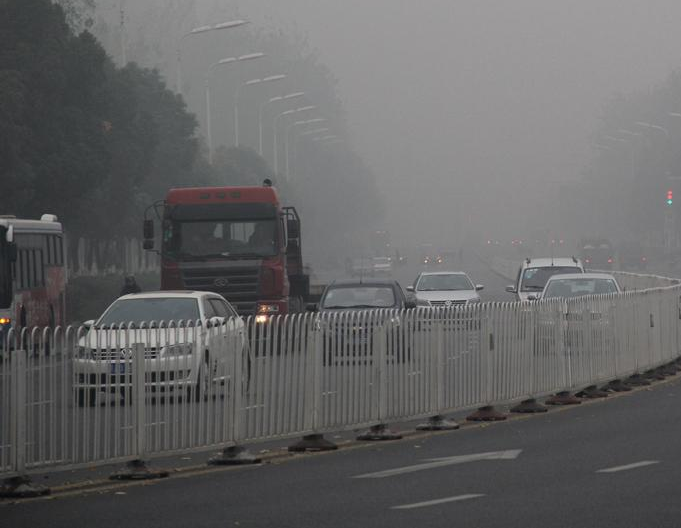bus: (1, 210, 68, 366)
car: (70, 289, 251, 407), (304, 278, 415, 364), (525, 273, 629, 358), (503, 256, 589, 338), (402, 268, 489, 334), (349, 258, 376, 279), (370, 256, 393, 273)
